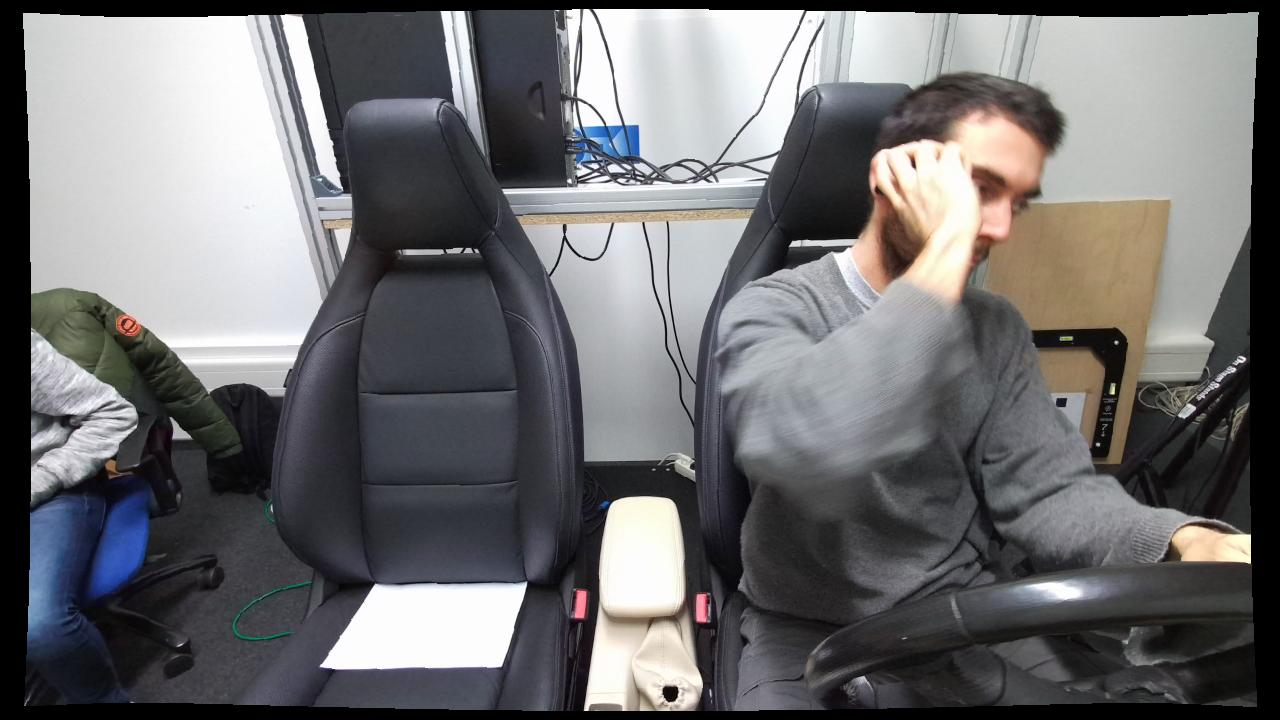Distracted: (719, 71, 1091, 713)
PhoneUse: (846, 130, 996, 257)
